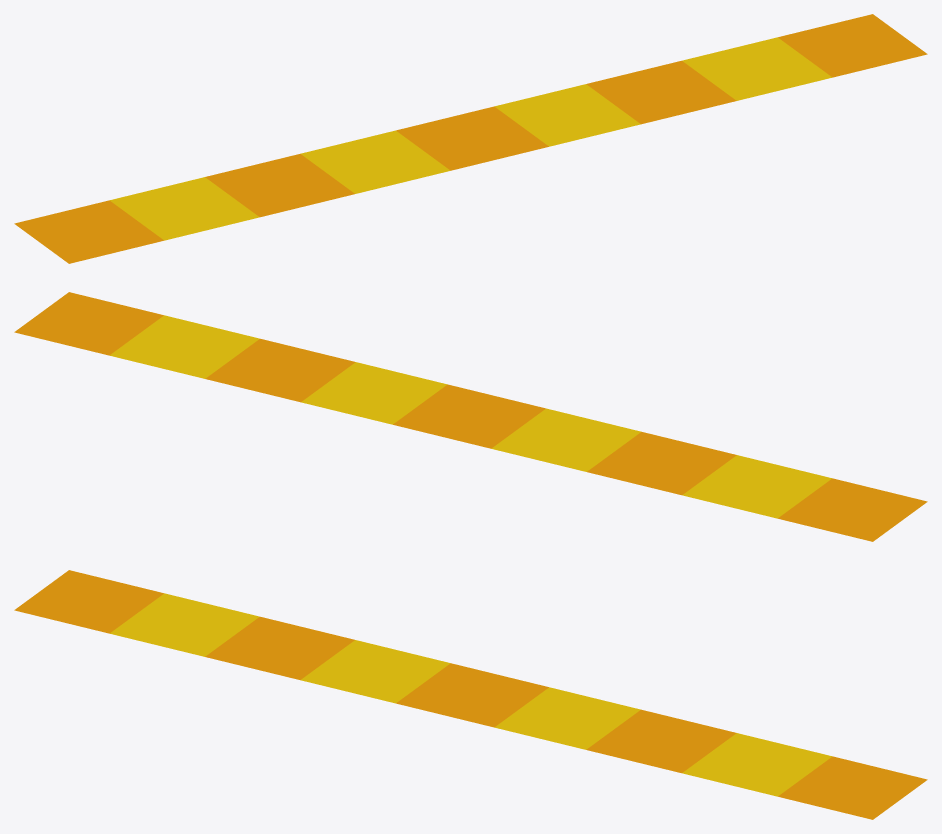
The model's file is Daskex9.fbx.
The picture shows the model from 3 angles, top to bottom: view 1: azimuth 30°, elevation 25°; view 2: azimuth 150°, elevation 25°; view 3: azimuth 330°, elevation 25°; orthographic projection.
Parts seen in each view (by area): view 1: Plane; view 2: Plane; view 3: Plane.
Boxes of the visible parts, x1,y1,x2,y2 form: Plane: (14,14,927,263); Plane: (14,292,927,541); Plane: (14,570,927,819).
Bounding box in the file's own units: 9 × 1.63e-07 × 1.
